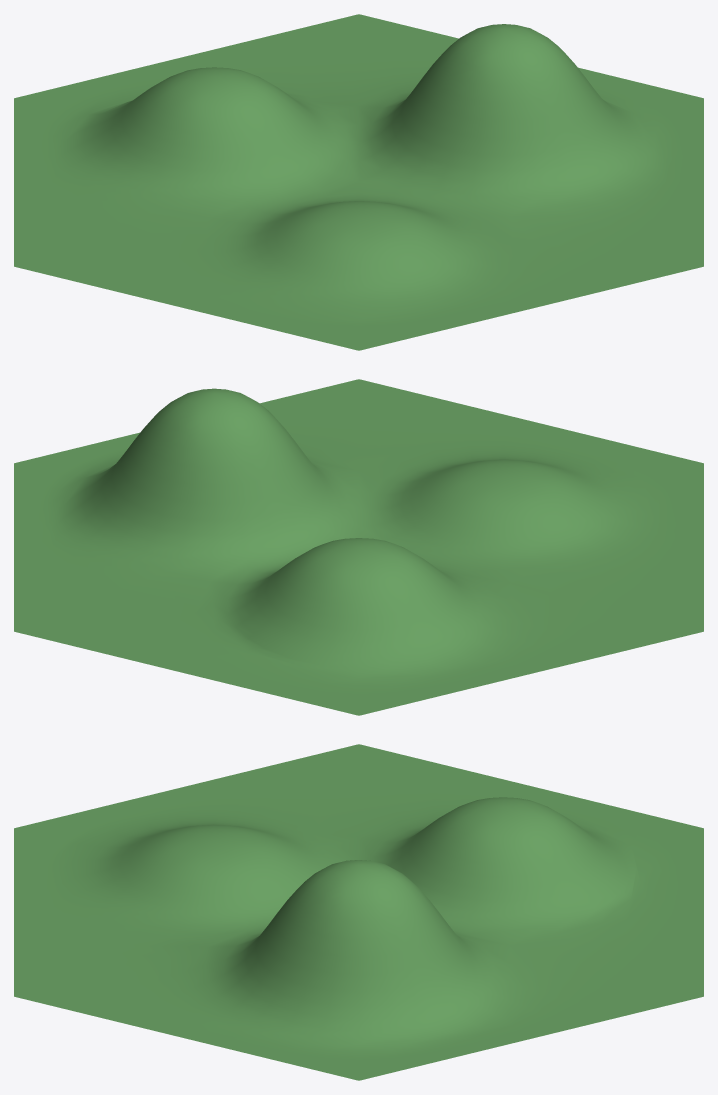
File: t_threehill.fbx
3 views of the same model, one above another, from view 1: azimuth 30°, elevation 25°; view 2: azimuth 150°, elevation 25°; view 3: azimuth 270°, elevation 25° (orthographic).
Visible parts, largest first — view 1: t_threehill; view 2: t_threehill; view 3: t_threehill.
Part boxes in pixels (x1,y1,x2,y2): t_threehill: (14, 14, 703, 350); t_threehill: (14, 379, 703, 715); t_threehill: (14, 744, 703, 1080).
Size of the model in its own units: 20000 by 3276 by 17321.
